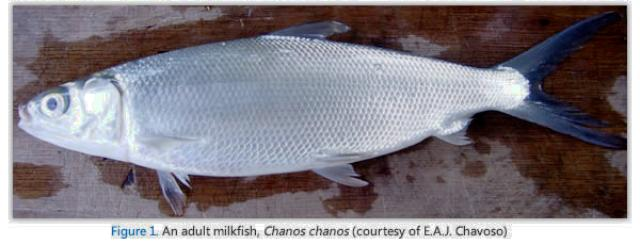Healthy Fish: (18, 13, 623, 214)
